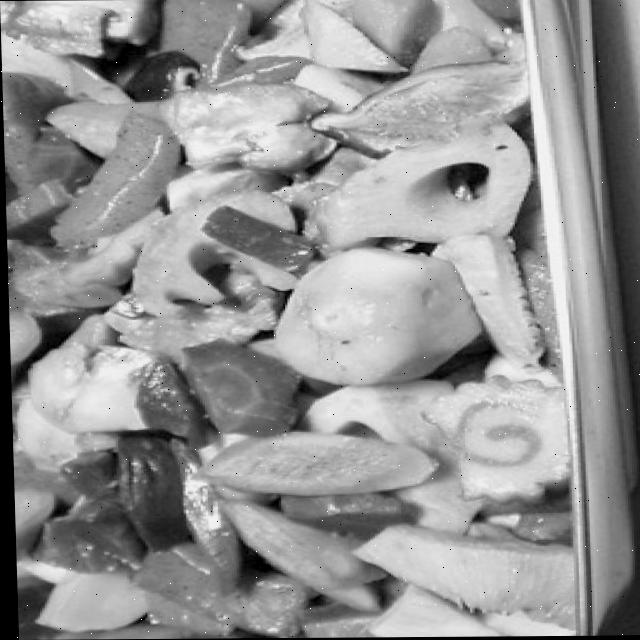鸡肉料理 含炸鸡: (0, 0, 513, 640)
